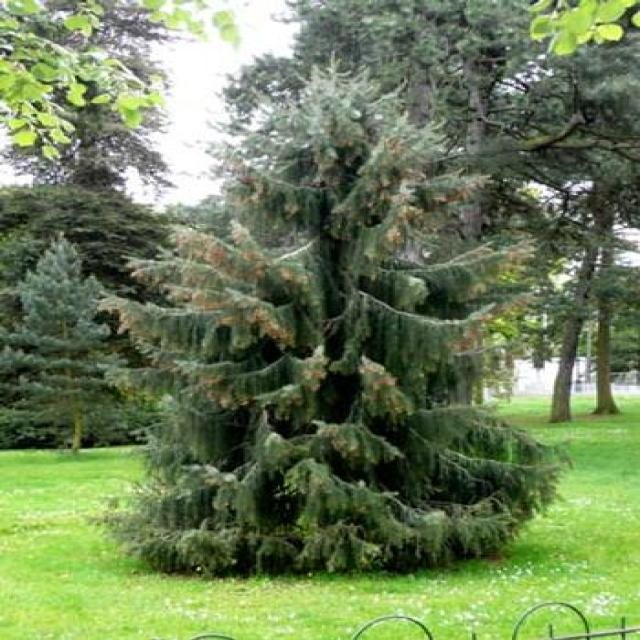Picea breweriana: (119, 58, 567, 588)
